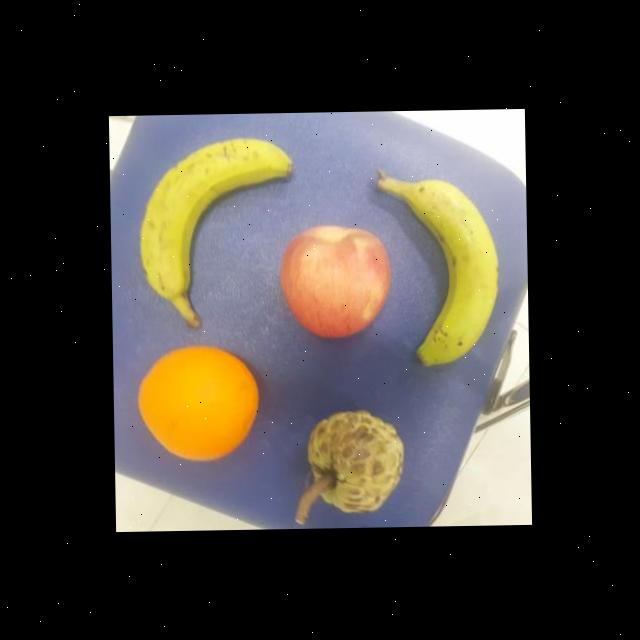Sakya fruit: (305, 407, 408, 519)
apple: (276, 222, 396, 341)
banana: (138, 137, 296, 328), (376, 170, 502, 368)
orange: (135, 343, 261, 465)
